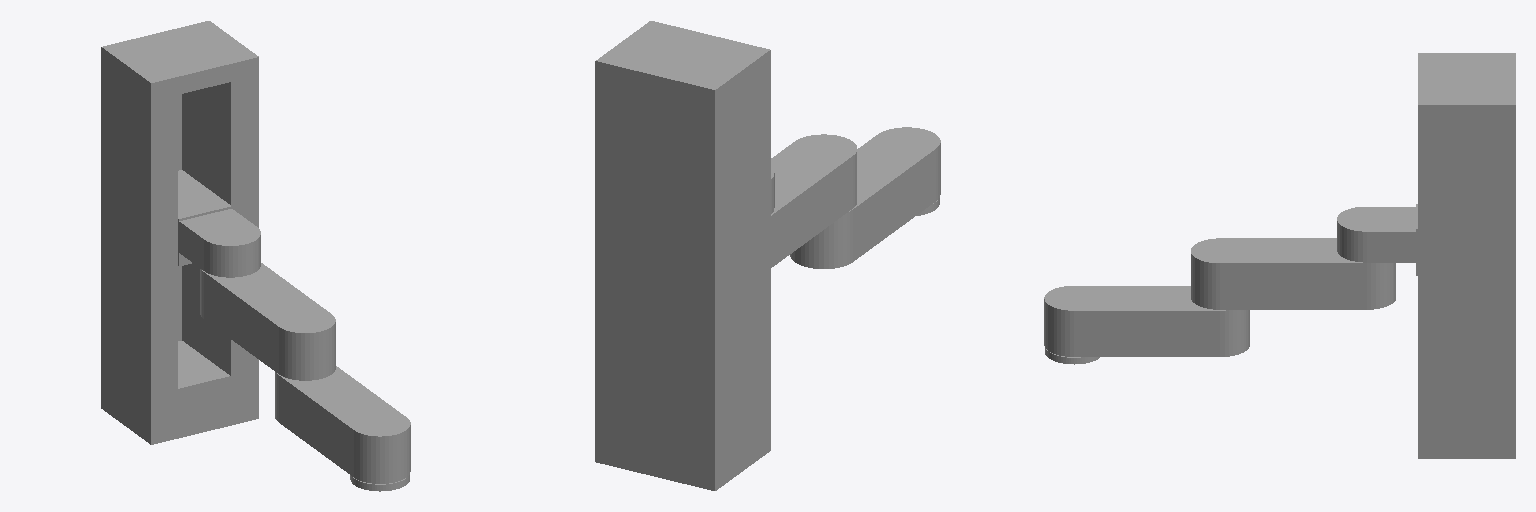
The robot description file, URDF, robot "scara":
<?xml version="1.0" ?>
<!-- =================================================================================== -->
<!-- |    This document was autogenerated by xacro from [local-path]/scara_ws/src/urdf/scara_description/urdf/scara.xacro | -->
<!-- |    EDITING THIS FILE BY HAND IS NOT RECOMMENDED                                 | -->
<!-- =================================================================================== -->
<robot name="scara">
    <material name="silver">
        <color rgba="0.700 0.700 0.700 1.000" />
    </material>
    <transmission name="joint1_tran">
        <type>transmission_interface/SimpleTransmission</type>
        <joint name="joint1">
            <hardwareInterface>hardware_interface/EffortJointInterface</hardwareInterface>
        </joint>
        <actuator name="joint1_actr">
            <hardwareInterface>hardware_interface/EffortJointInterface</hardwareInterface>
            <mechanicalReduction>1</mechanicalReduction>
        </actuator>
    </transmission>
    <transmission name="joint2_tran">
        <type>transmission_interface/SimpleTransmission</type>
        <joint name="joint2">
            <hardwareInterface>hardware_interface/EffortJointInterface</hardwareInterface>
        </joint>
        <actuator name="joint2_actr">
            <hardwareInterface>hardware_interface/EffortJointInterface</hardwareInterface>
            <mechanicalReduction>1</mechanicalReduction>
        </actuator>
    </transmission>
    <transmission name="joint3_tran">
        <type>transmission_interface/SimpleTransmission</type>
        <joint name="joint3">
            <hardwareInterface>hardware_interface/EffortJointInterface</hardwareInterface>
        </joint>
        <actuator name="joint3_actr">
            <hardwareInterface>hardware_interface/EffortJointInterface</hardwareInterface>
            <mechanicalReduction>1</mechanicalReduction>
        </actuator>
    </transmission>
    <transmission name="joint4_tran">
        <type>transmission_interface/SimpleTransmission</type>
        <joint name="joint4">
            <hardwareInterface>hardware_interface/EffortJointInterface</hardwareInterface>
        </joint>
        <actuator name="joint4_actr">
            <hardwareInterface>hardware_interface/EffortJointInterface</hardwareInterface>
            <mechanicalReduction>1</mechanicalReduction>
        </actuator>
    </transmission>
    <gazebo>
        <plugin filename="libgazebo_ros_control.so" name="control" />
        <plugin name="gazebo_ros_control">
            <robotNamespace>/</robotNamespace>
        </plugin>
    </gazebo>
    <gazebo reference="base_link">
        <material>Gazebo/Silver</material>
        <mu1>0.2</mu1>
        <mu2>0.2</mu2>
        <selfCollide>true</selfCollide>
        <gravity>true</gravity>
    </gazebo>
    <gazebo reference="link1_1">
        <material>Gazebo/Silver</material>
        <mu1>0.2</mu1>
        <mu2>0.2</mu2>
        <selfCollide>true</selfCollide>
    </gazebo>
    <gazebo reference="link2_1">
        <material>Gazebo/Silver</material>
        <mu1>0.2</mu1>
        <mu2>0.2</mu2>
        <selfCollide>true</selfCollide>
    </gazebo>
    <gazebo reference="link3_1">
        <material>Gazebo/Silver</material>
        <mu1>0.2</mu1>
        <mu2>0.2</mu2>
        <selfCollide>true</selfCollide>
    </gazebo>
    <gazebo reference="tool0_1">
        <material>Gazebo/Silver</material>
        <mu1>0.2</mu1>
        <mu2>0.2</mu2>
        <selfCollide>true</selfCollide>
    </gazebo>
    <link name="base_link">
        <inertial>
            <origin rpy="0 0 0" xyz="0.12898210621867426 0.1028129499778276 0.3800243277084152" />
            <mass value="192.61152500000009" />
            <inertia ixx="12.891145" ixy="0.001045" ixz="-0.014626" iyy="13.714337" iyz="-0.017315" izz="2.144752" />
        </inertial>
        <visual>
            <origin rpy="0 0 0" xyz="0 0 0" />
            <geometry>
                <mesh filename="package://scara_description/meshes/base_link.stl" scale="0.001 0.001 0.001" />
            </geometry>
            <material name="silver" />
        </visual>
        <collision>
            <origin rpy="0 0 0" xyz="0 0 0" />
            <geometry>
                <mesh filename="package://scara_description/meshes/base_link.stl" scale="0.001 0.001 0.001" />
            </geometry>
        </collision>
    </link>
    <link name="link1_1">
        <inertial>
            <origin rpy="0 0 0" xyz="-3.7976791045224445e-07 -0.15497006523662554 0.0043939352168283485" />
            <mass value="29.47250695359581" />
            <inertia ixx="0.300227" ixy="0.0" ixz="-0.0" iyy="0.059546" iyz="0.01563" izz="0.312927" />
        </inertial>
        <visual>
            <origin rpy="0 0 0" xyz="-0.12554 -0.196237 -0.437082" />
            <geometry>
                <mesh filename="package://scara_description/meshes/link1_1.stl" scale="0.001 0.001 0.001" />
            </geometry>
            <material name="silver" />
        </visual>
        <collision>
            <origin rpy="0 0 0" xyz="-0.12554 -0.196237 -0.437082" />
            <geometry>
                <mesh filename="package://scara_description/meshes/link1_1.stl" scale="0.001 0.001 0.001" />
            </geometry>
        </collision>
    </link>
    <link name="link2_1">
        <inertial>
            <origin rpy="0 0 0" xyz="-3.7976791031346657e-07 -0.1456549328627304 -0.07795021786375345" />
            <mass value="39.847312972303484" />
            <inertia ixx="0.565311" ixy="-0.0" ixz="0.0" iyy="0.084594" iyz="-0.002335" izz="0.573499" />
        </inertial>
        <visual>
            <origin rpy="0 0 0" xyz="-0.12554 0.103763 -0.439582" />
            <geometry>
                <mesh filename="package://scara_description/meshes/link2_1.stl" scale="0.001 0.001 0.001" />
            </geometry>
            <material name="silver" />
        </visual>
        <collision>
            <origin rpy="0 0 0" xyz="-0.12554 0.103763 -0.439582" />
            <geometry>
                <mesh filename="package://scara_description/meshes/link2_1.stl" scale="0.001 0.001 0.001" />
            </geometry>
        </collision>
    </link>
    <link name="link3_1">
        <inertial>
            <origin rpy="0 0 0" xyz="-3.7976790909222125e-07 -0.14565493286273024 -0.07795021786375406" />
            <mass value="39.84731297230351" />
            <inertia ixx="0.565311" ixy="0.0" ixz="0.0" iyy="0.084594" iyz="-0.002335" izz="0.573499" />
        </inertial>
        <visual>
            <origin rpy="0 0 0" xyz="-0.12554 0.403763 -0.332582" />
            <geometry>
                <mesh filename="package://scara_description/meshes/link3_1.stl" scale="0.001 0.001 0.001" />
            </geometry>
            <material name="silver" />
        </visual>
        <collision>
            <origin rpy="0 0 0" xyz="-0.12554 0.403763 -0.332582" />
            <geometry>
                <mesh filename="package://scara_description/meshes/link3_1.stl" scale="0.001 0.001 0.001" />
            </geometry>
        </collision>
    </link>
    <link name="tool0_1">
        <inertial>
            <origin rpy="0 0 0" xyz="-3.797679083705763e-07 3.89078758655792e-07 -0.027982578325312507" />
            <mass value="1.9309956324922333" />
            <inertia ixx="0.001577" ixy="0.0" ixz="0.0" iyy="0.001577" iyz="0.0" izz="0.002667" />
        </inertial>
        <visual>
            <origin rpy="0 0 0" xyz="-0.12554 0.703763 -0.225582" />
            <geometry>
                <mesh filename="package://scara_description/meshes/tool0_1.stl" scale="0.001 0.001 0.001" />
            </geometry>
            <material name="silver" />
        </visual>
        <collision>
            <origin rpy="0 0 0" xyz="-0.12554 0.703763 -0.225582" />
            <geometry>
                <mesh filename="package://scara_description/meshes/tool0_1.stl" scale="0.001 0.001 0.001" />
            </geometry>
        </collision>
    </link>
    <joint name="joint1" type="prismatic">
        <origin rpy="0 0 0" xyz="0.12554 0.196237 0.437082" />
        <parent link="base_link" />
        <child link="link1_1" />
        <axis xyz="0.0 -0.0 1.0" />
        <limit effort="100" lower="-0.1" upper="0.265" velocity="100" />
    </joint>
    <joint name="joint2" type="revolute">
        <origin rpy="0 0 0" xyz="0.0 -0.3 0.0025" />
        <parent link="link1_1" />
        <child link="link2_1" />
        <axis xyz="0.0 0.0 -1.0" />
        <limit effort="100" lower="-1.745329" upper="1.745329" velocity="100" />
    </joint>
    <joint name="joint3" type="revolute">
        <origin rpy="0 0 0" xyz="0.0 -0.3 -0.107" />
        <parent link="link2_1" />
        <child link="link3_1" />
        <axis xyz="0.0 0.0 -1.0" />
        <limit effort="100" lower="-2.356194" upper="2.356194" velocity="100" />
    </joint>
    <joint name="joint4" type="revolute">
        <origin rpy="0 0 0" xyz="0.0 -0.3 -0.107" />
        <parent link="link3_1" />
        <child link="tool0_1" />
        <axis xyz="0.0 0.0 -1.0" />
        <limit effort="100" lower="-2.617994" upper="2.617994" velocity="100" />
    </joint>
    <link name="world" />
    <joint name="world_to_base_link" type="fixed">
        <parent link="world" />
        <child link="base_link" />
        <origin rpy="0 0 0" xyz="0 0 0" />
    </joint>
</robot>

--- Facts derived from the render (not from the file) ---
The picture shows the robot from 3 angles, left to right: view 1: azimuth 30°, elevation 25°; view 2: azimuth 150°, elevation 25°; view 3: azimuth 270°, elevation 25°; orthographic projection.
Robot: scara — 6 links, 5 joints (3 revolute, 1 prismatic, 1 fixed); root link world; default pose: every joint at zero.
Visible links, largest first — view 1: base_link, link2_1, link3_1, link1_1; view 2: base_link, link3_1, link2_1; view 3: base_link, link2_1, link3_1, link1_1.
Link boxes in pixels (x1,y1,x2,y2): base_link: (101,21,258,444); link2_1: (200,263,335,380); link3_1: (275,366,410,483); link1_1: (178,170,260,277); base_link: (595,21,770,490); link3_1: (790,127,940,268); link2_1: (771,134,856,267); base_link: (1418,53,1515,458); link2_1: (1191,238,1395,309); link3_1: (1044,286,1249,356); link1_1: (1337,204,1417,275).
Size in the robot's own frame: 0.25 by 0.9658 by 0.8 metres.
5 mesh visuals loaded from 5 distinct referenced files (5 binary STL).